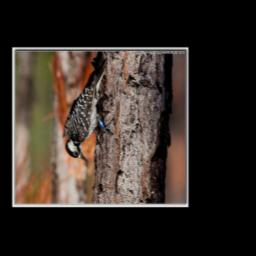Woodpecker: (58, 51, 121, 167)
